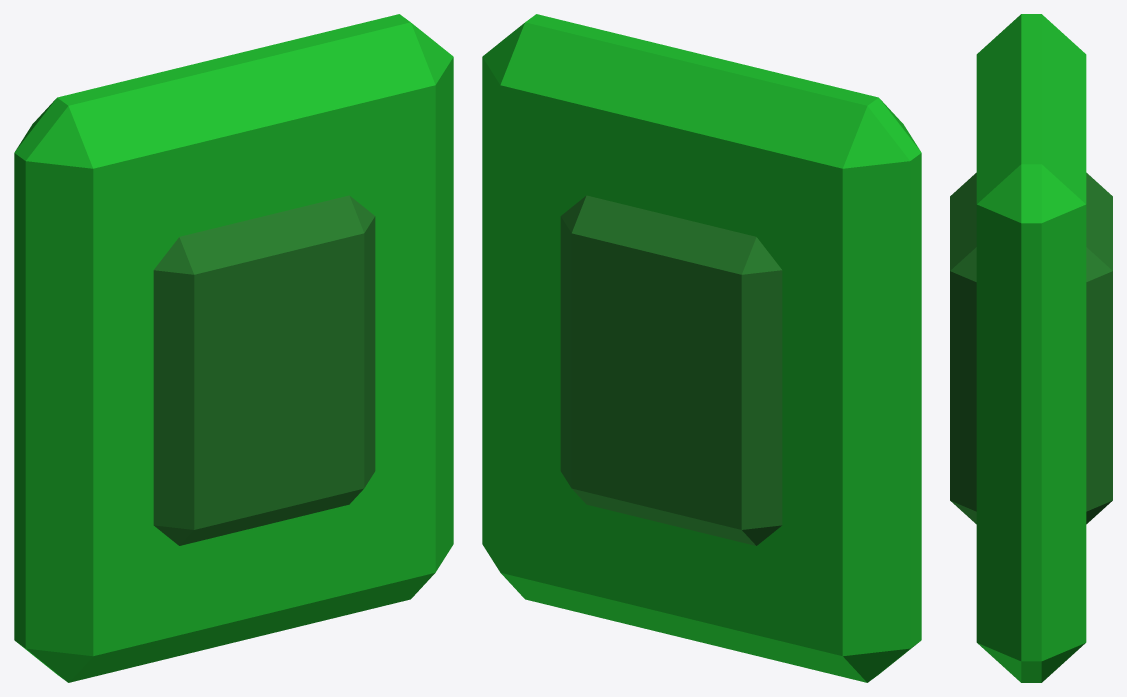
Rendered from Gem1.fbx.
3 views of the same model, side by side, from view 1: azimuth 30°, elevation 25°; view 2: azimuth 150°, elevation 25°; view 3: azimuth 270°, elevation 25° (orthographic). The views are drawn at different scales.
Visible parts, largest first — view 1: Gem1a, Gem1b; view 2: Gem1a, Gem1b; view 3: Gem1a, Gem1b.
Boxes of the visible parts, <box> form: Gem1a: <box>14,14,453,682</box>; Gem1b: <box>153,195,375,545</box>; Gem1a: <box>482,14,921,682</box>; Gem1b: <box>560,195,782,545</box>; Gem1a: <box>976,14,1086,682</box>; Gem1b: <box>950,172,1112,524</box>.
Size of the model in its own units: 99.92 by 129 by 36.65.
